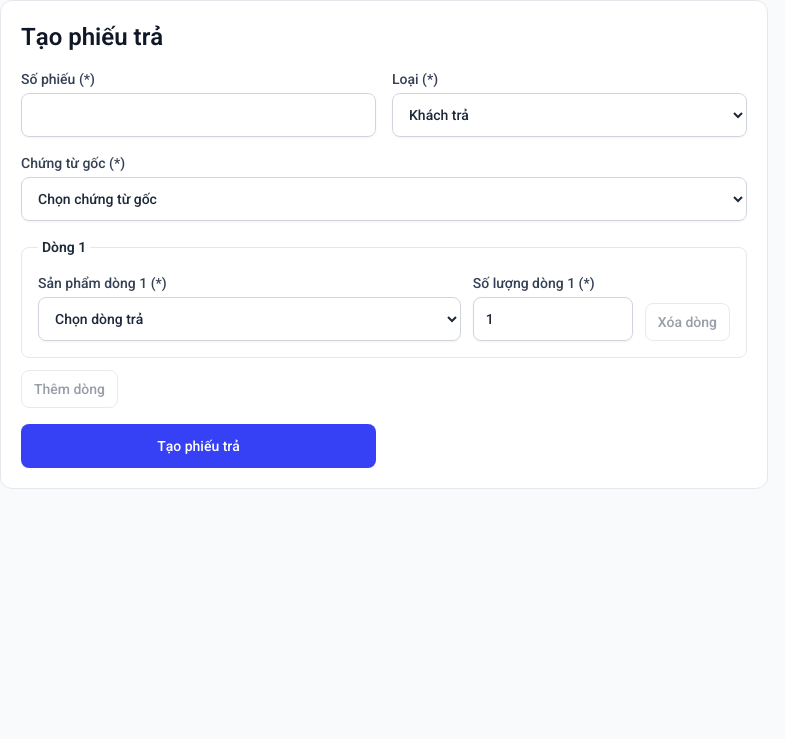
keeps return rows on over-quantity errors and guards the final row
The image size is (785, 739).
Expected: the button with aria-label "Xóa dòng 1" is disabled, top-left (645, 303), bottom-right (730, 341)
Type "RET-ERR" into the field labelled "Số phiếu (*)".
click(198, 115); type("RET-ERR")  # box top-left (21, 93), bottom-right (376, 137)
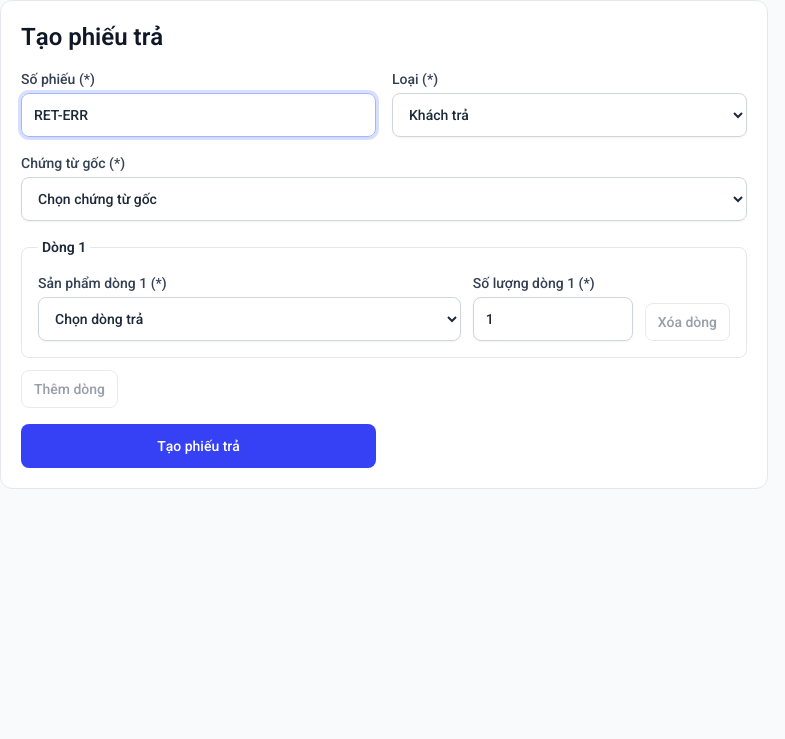
Select "RC-1 - NCC A" in the dropdown labelled "Chứng từ gốc (*)" at coordinates (384, 199), box top-left (21, 177), bottom-right (747, 221)
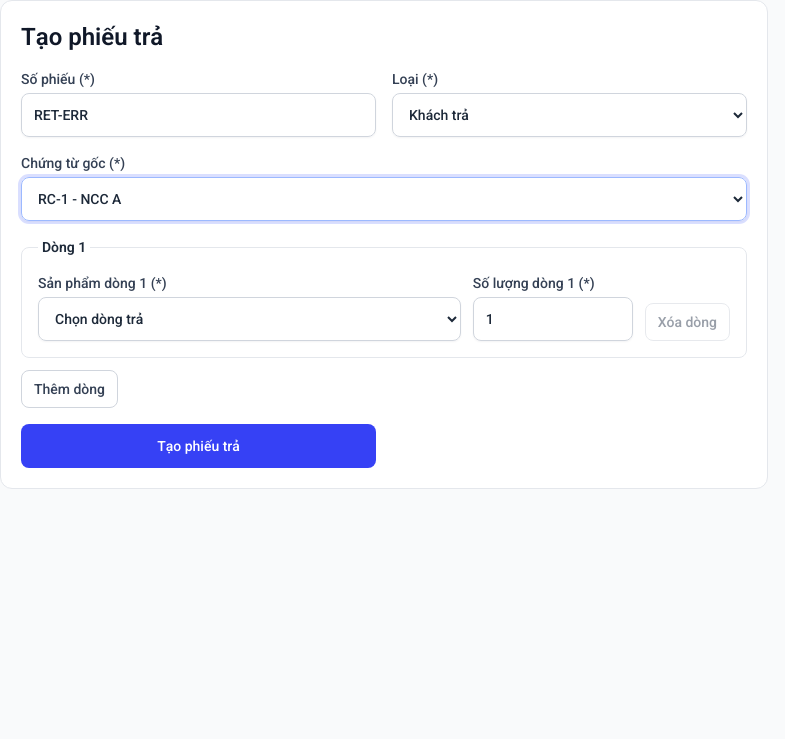
Select "SKU-1 - Sản phẩm 1 · Vị trí A-01 · Còn lại 5" in the dropdown labelled "Sản phẩm dòng 1 (*)" at coordinates (249, 319), box top-left (38, 297), bottom-right (461, 341)
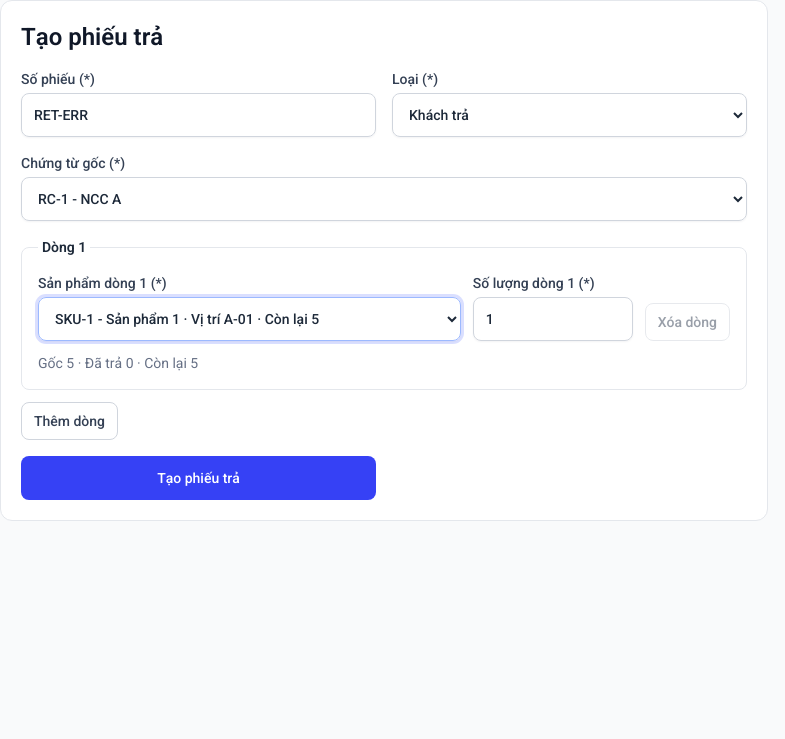
Click the button "Thêm dòng".
click(70, 421)  # box top-left (21, 402), bottom-right (118, 440)
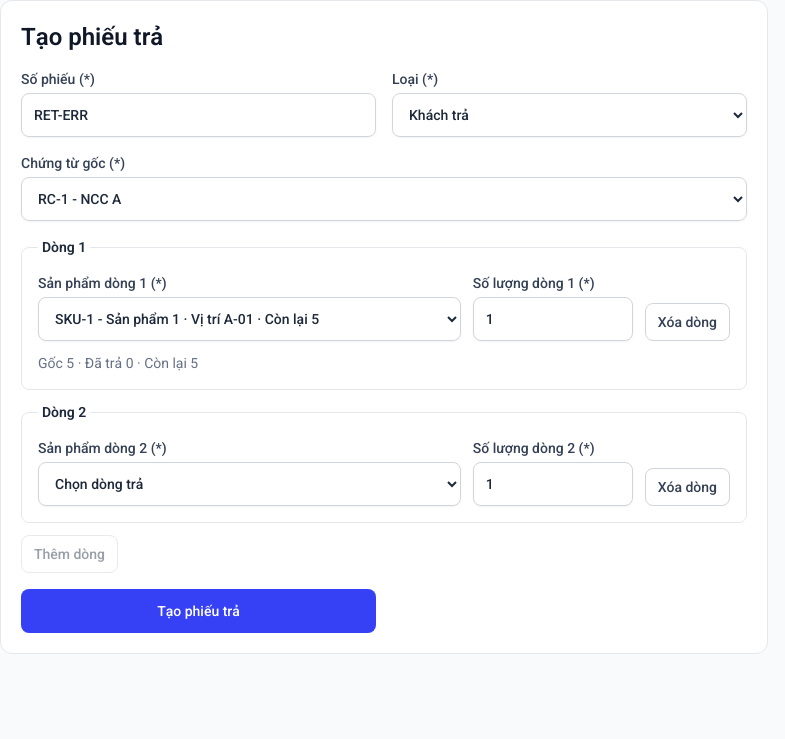
Select "SKU-2 - Sản phẩm 2 · Vị trí A-02 · Còn lại 1.5" in the dropdown labelled "Sản phẩm dòng 2 (*)" at coordinates (249, 484), box top-left (38, 462), bottom-right (461, 506)
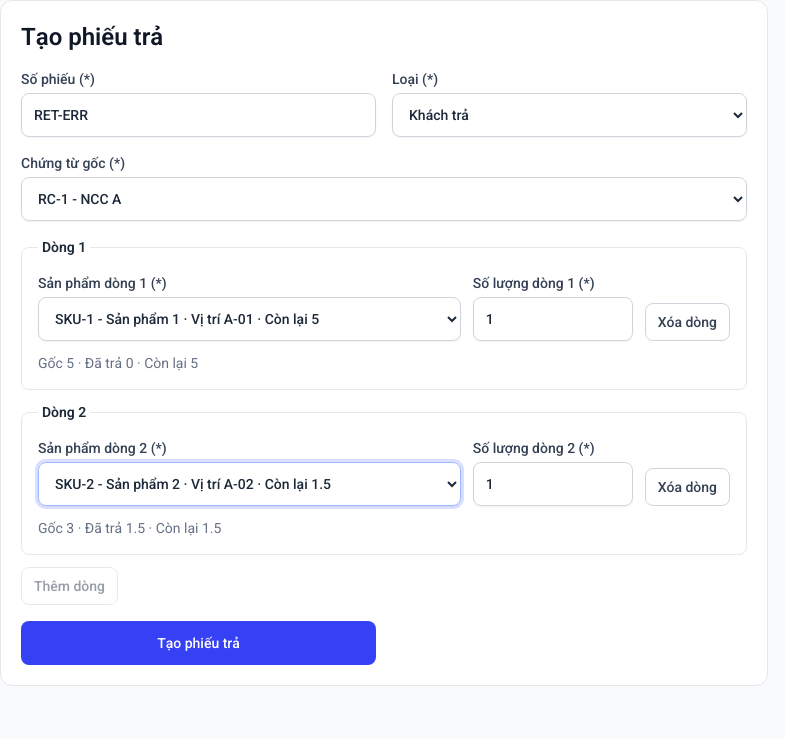
Click the button "Tạo phiếu trả".
click(198, 643)  # box top-left (21, 621), bottom-right (376, 665)
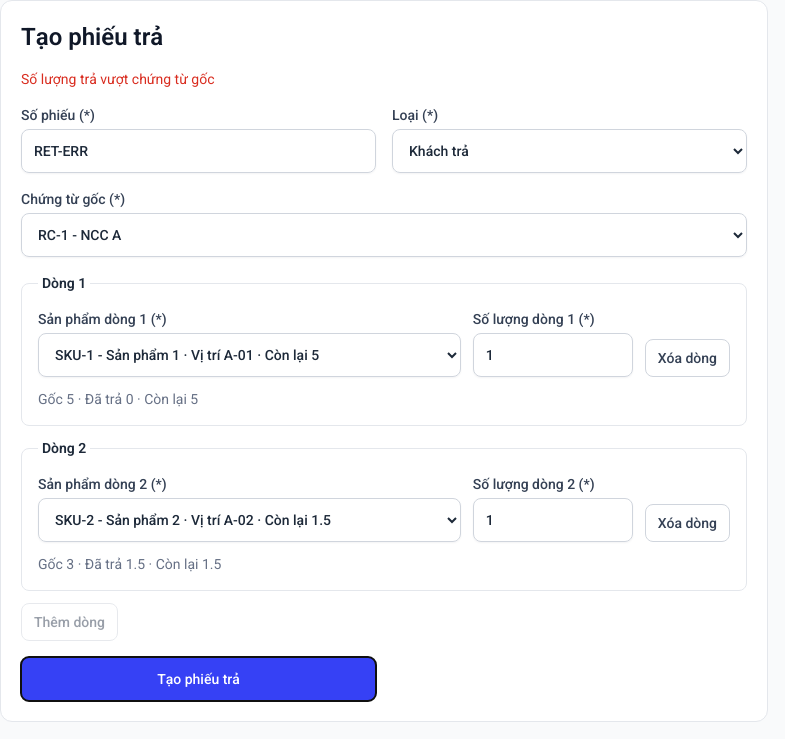
Expected: the number of dropdowns labelled "Sản phẩm dòng 1 (*)" is 2, top-left (38, 333), bottom-right (461, 377); top-left (38, 498), bottom-right (461, 542)
Expected: the message reads "Số lượng trả vượt chứng từ gốc", top-left (21, 71), bottom-right (214, 87)
